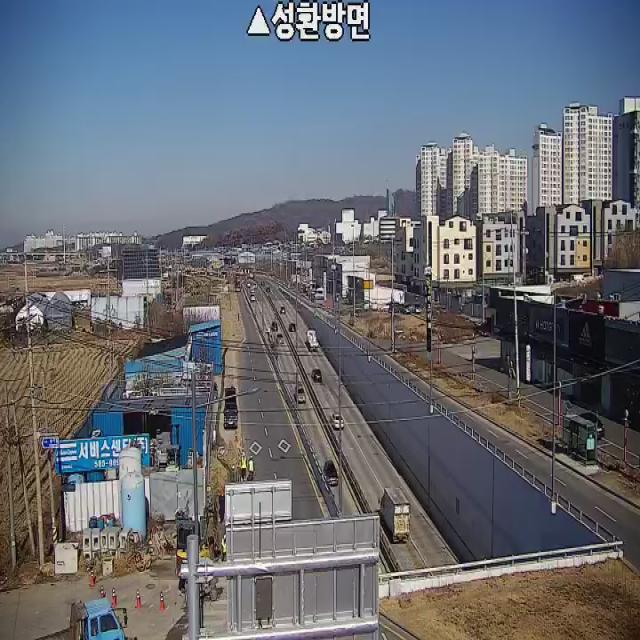Car: (573, 411, 604, 441), (323, 460, 339, 486), (330, 411, 345, 429), (294, 383, 306, 404), (311, 368, 322, 382), (288, 322, 296, 332), (277, 333, 284, 344), (272, 322, 278, 331), (280, 306, 286, 314)
Truck: (174, 500, 217, 622), (34, 597, 128, 640), (378, 487, 410, 543), (223, 388, 237, 428), (306, 328, 320, 352)
